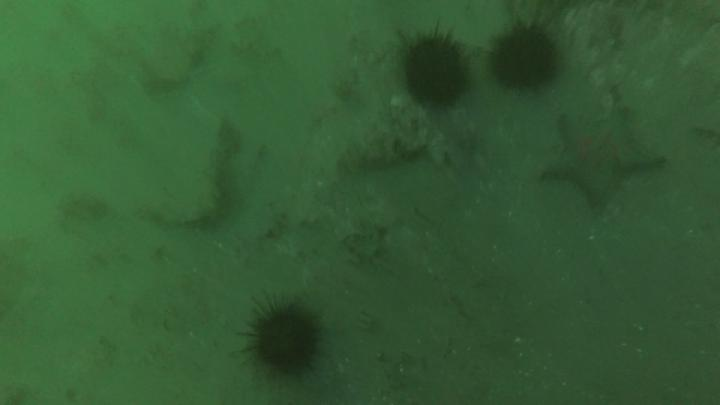echinus: (252, 310, 319, 379), (491, 28, 556, 94), (407, 41, 468, 107)
starfish: (543, 111, 664, 206)
